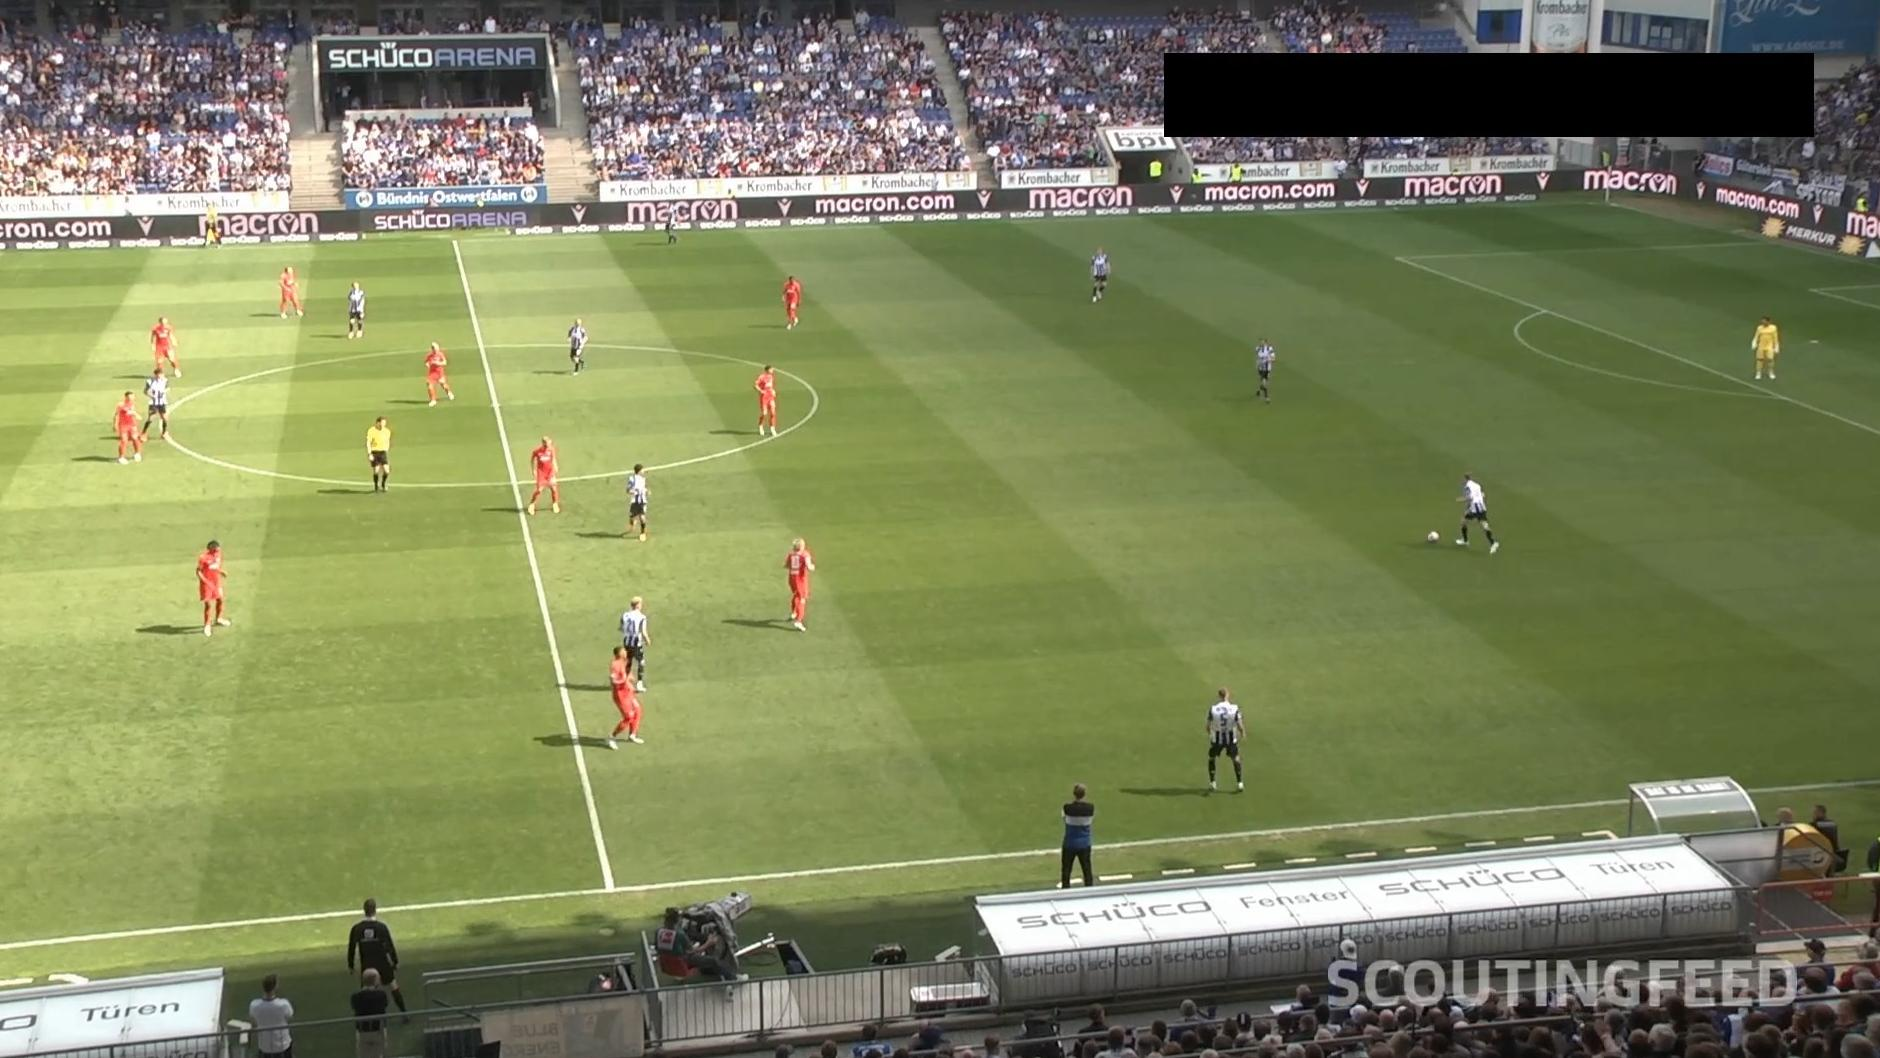ball: (1427, 530, 1440, 544)
